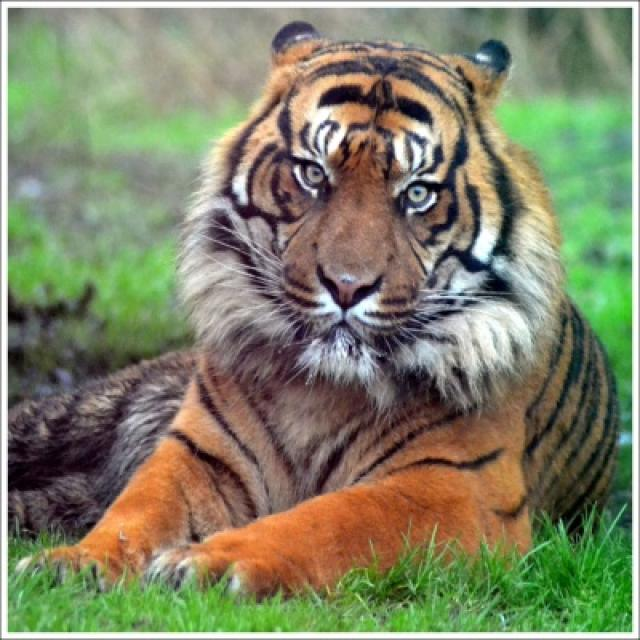Tiger: (10, 21, 618, 595)
